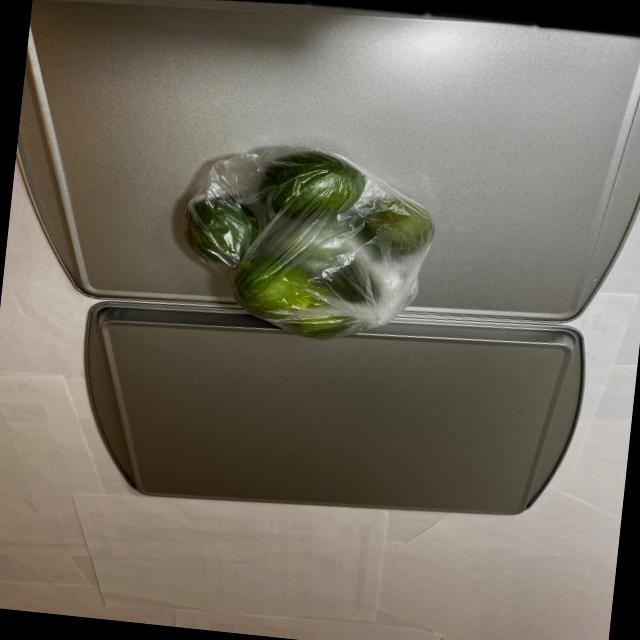lemon: (168, 137, 438, 350)
